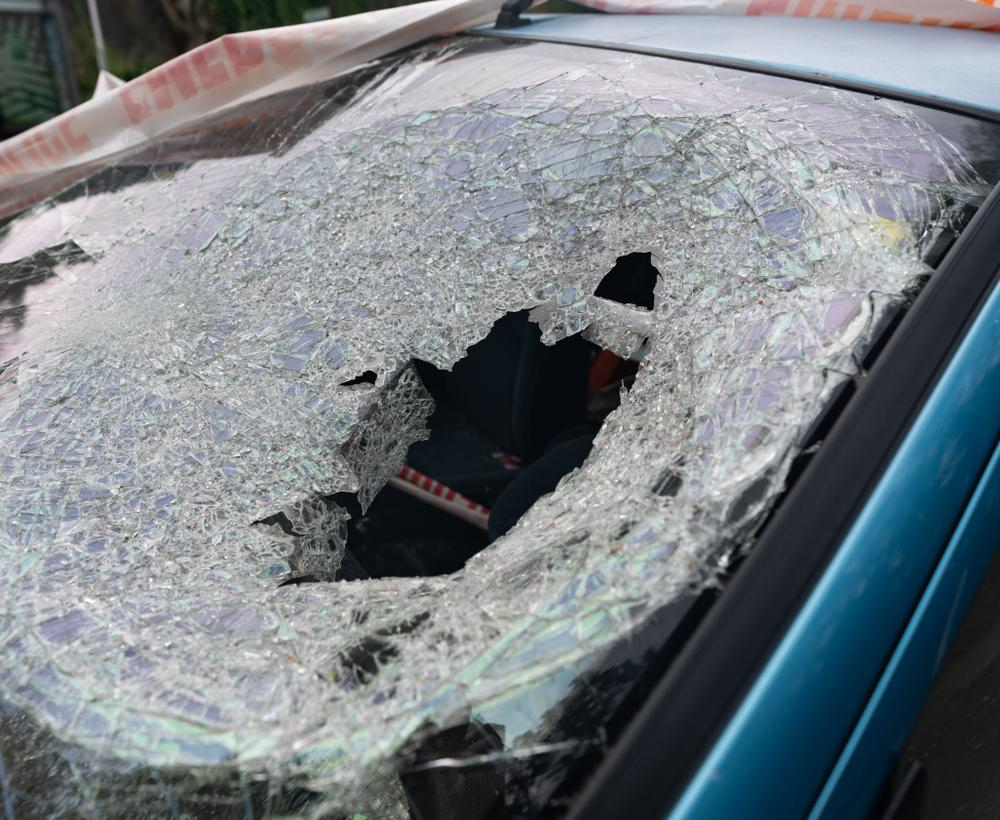glass shatter: (0, 31, 1000, 820)
